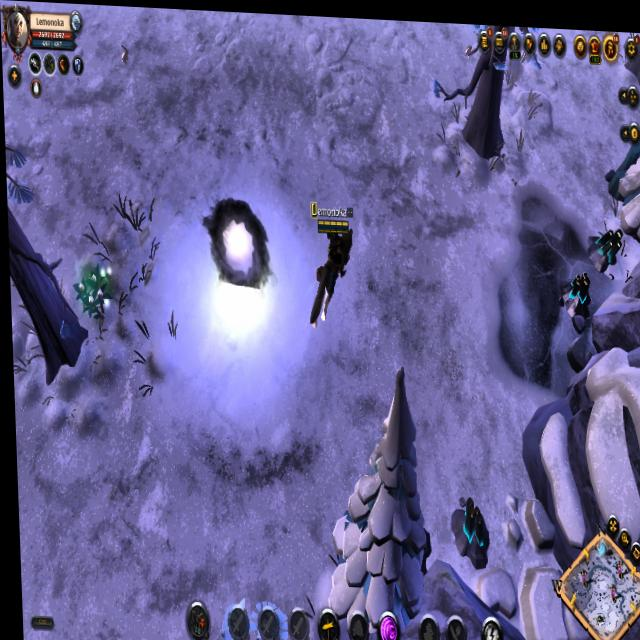fiber tier 4: (73, 259, 113, 327)
ore tier 4: (447, 487, 488, 568), (591, 218, 622, 268), (563, 263, 592, 316)
